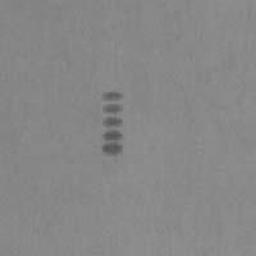Oil spot: (100, 90, 127, 157)
